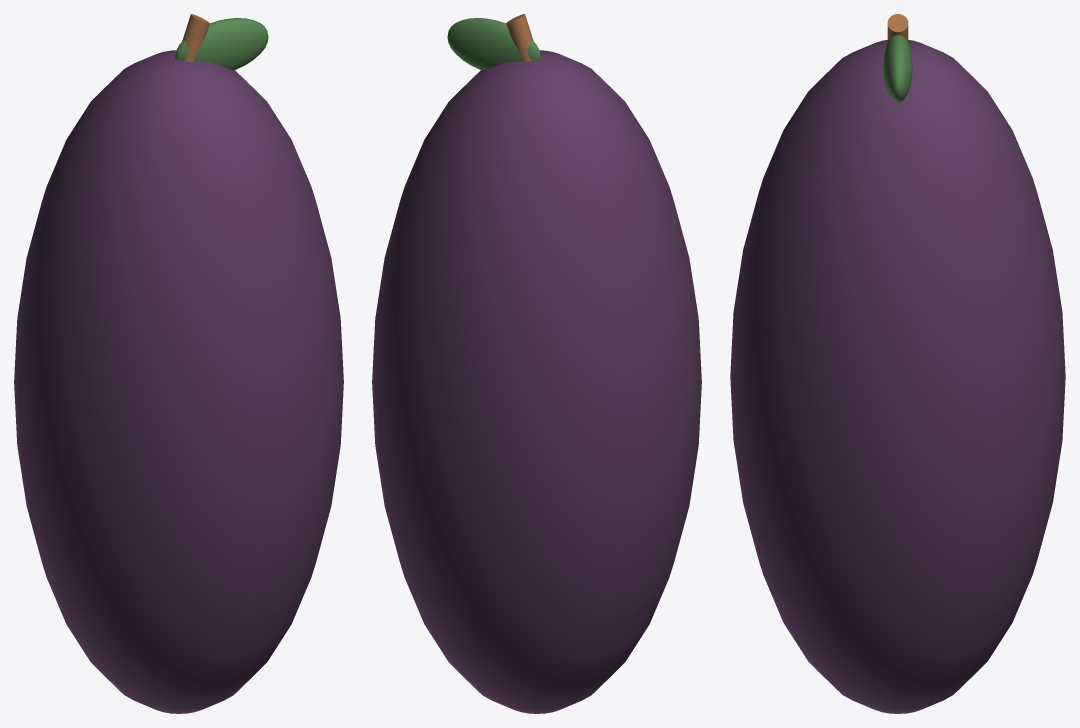
Rendered from wp-aubergine.glb.
3 views of the same model, side by side, from view 1: azimuth 30°, elevation 25°; view 2: azimuth 150°, elevation 25°; view 3: azimuth 270°, elevation 25° (orthographic).
Visible parts, largest first — view 1: wp-aubergine; view 2: wp-aubergine; view 3: wp-aubergine.
Boxes of the visible parts, x1,y1,x2,y2 form: wp-aubergine: (14, 14, 343, 713); wp-aubergine: (372, 14, 701, 713); wp-aubergine: (730, 14, 1065, 713).
Size of the model in its own units: 0.1 by 0.23 by 0.1.
